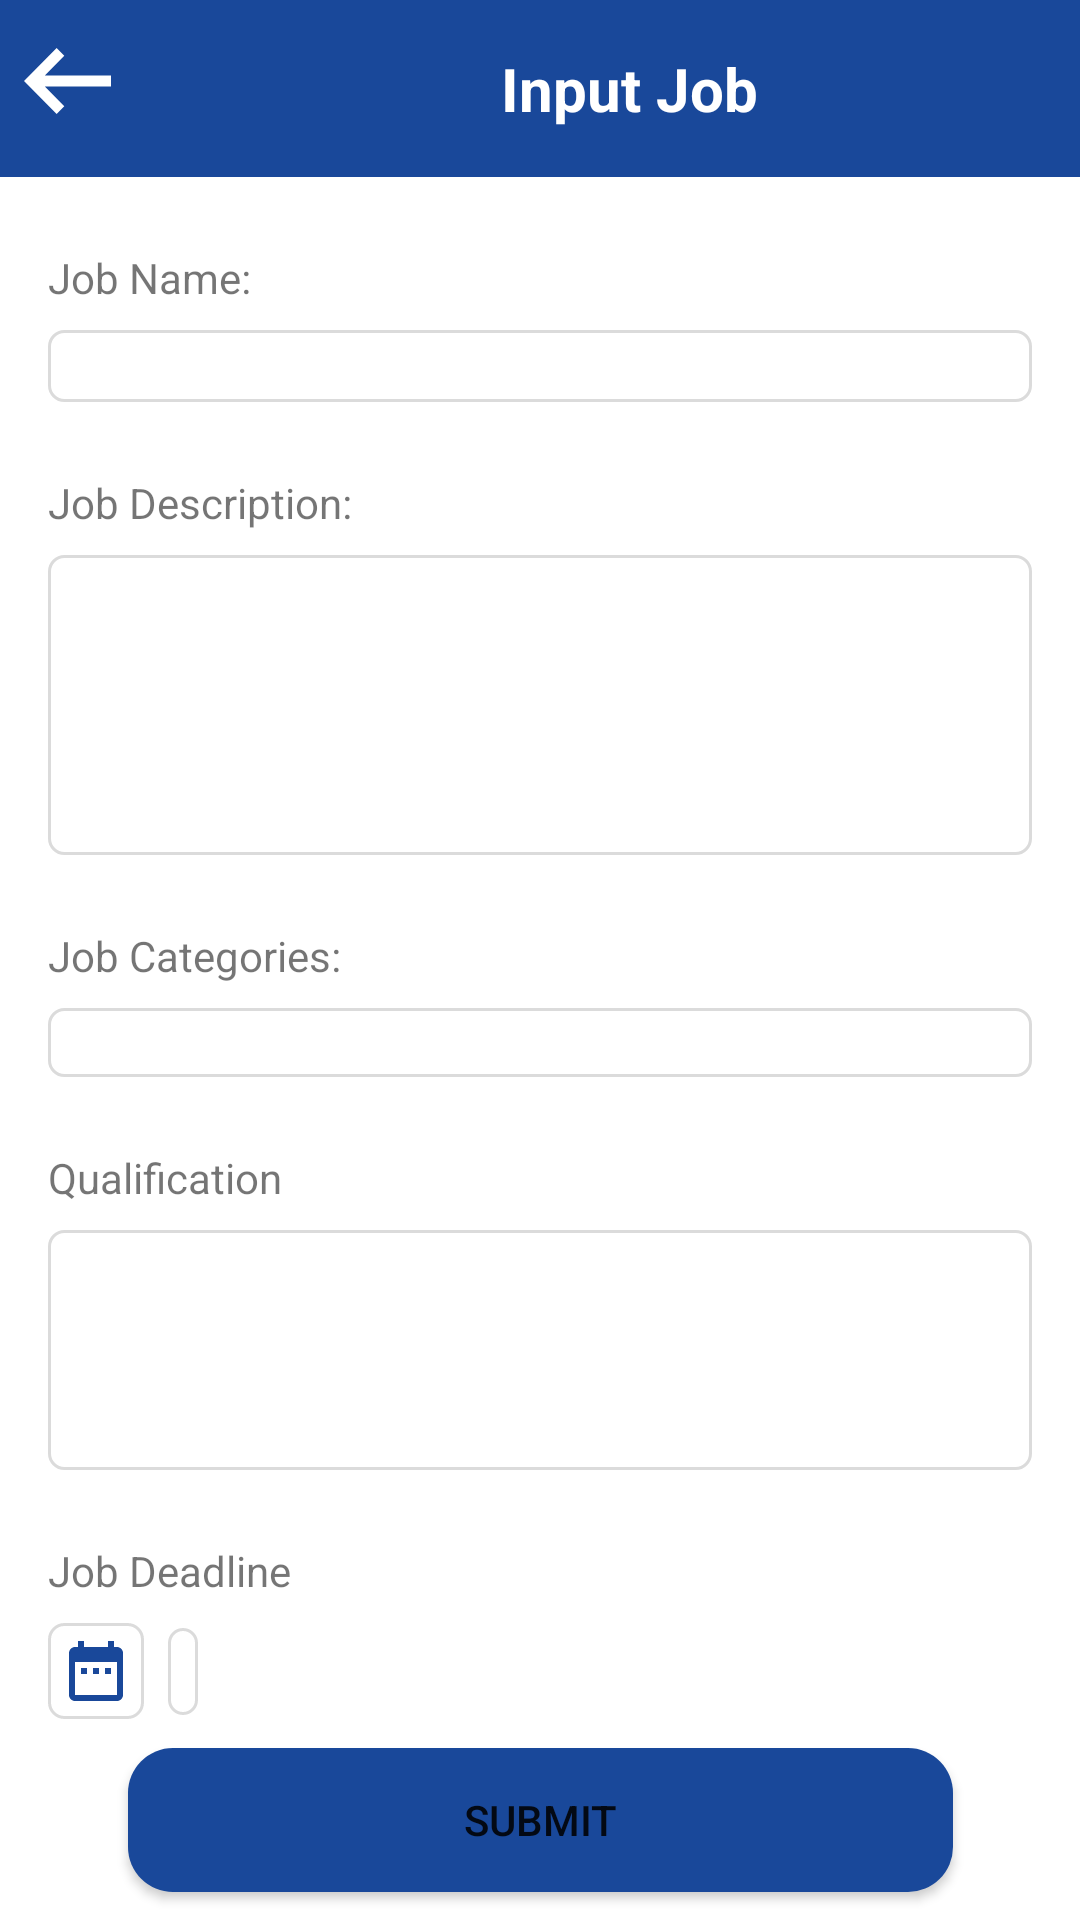

Icon click points for this 1080px×1920px phone screenshot, format [x,y]:
date range: [96,1671]
